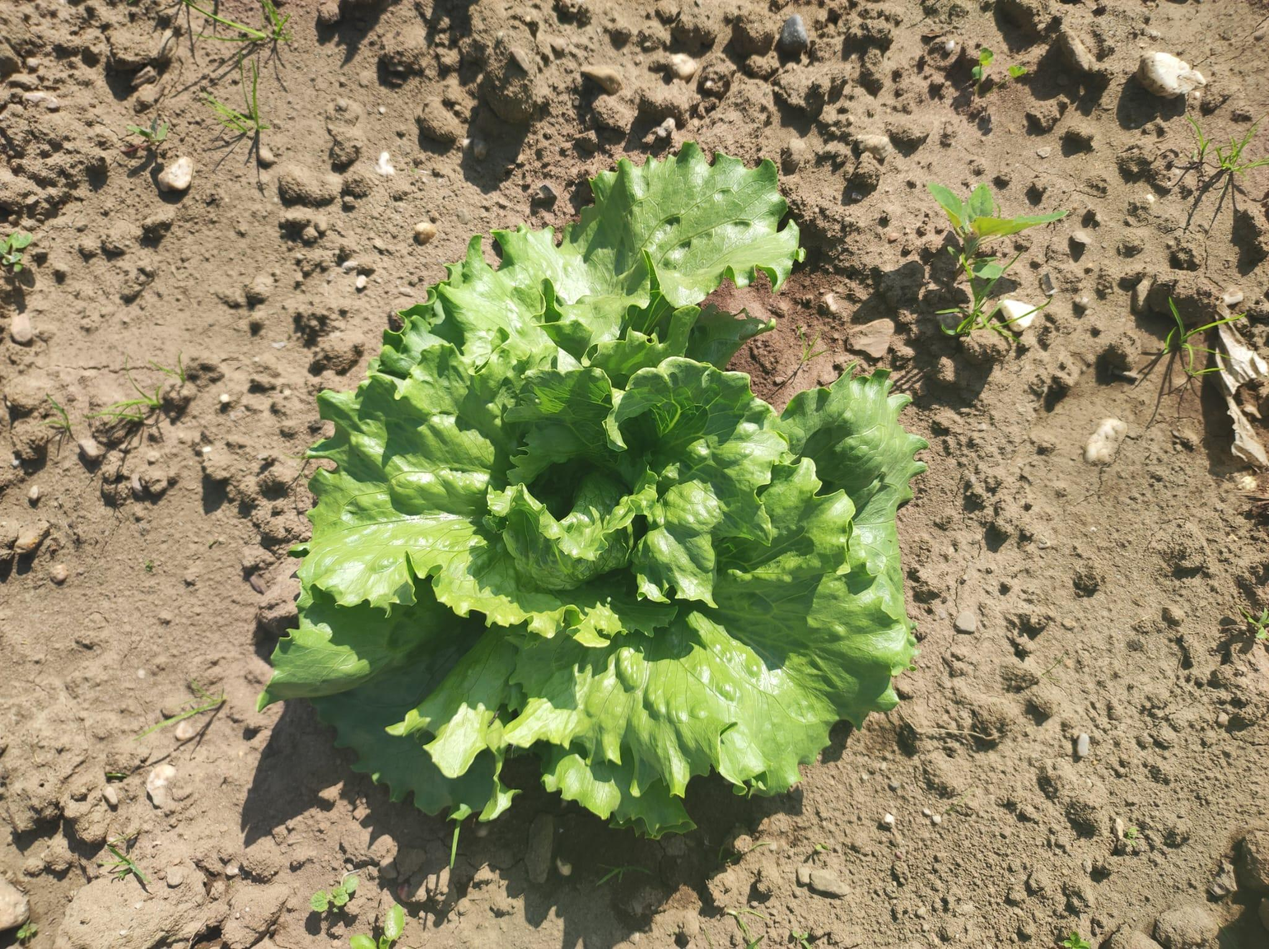Healthy: (260, 144, 924, 837)
